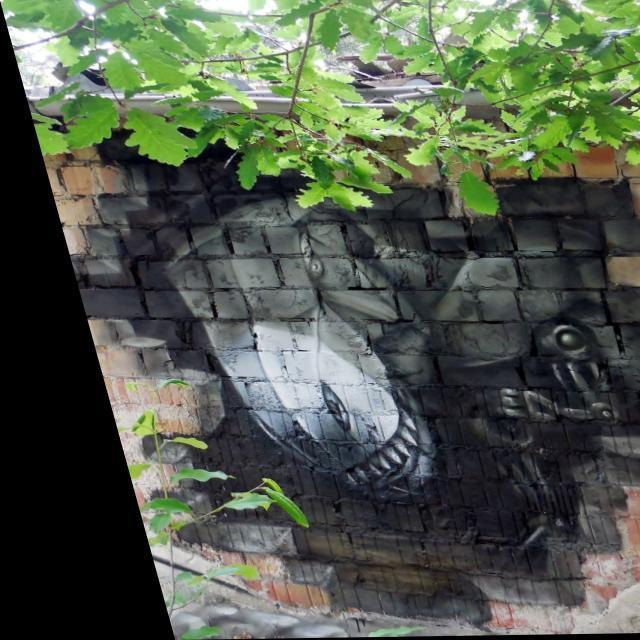-: (35, 153, 640, 636)
